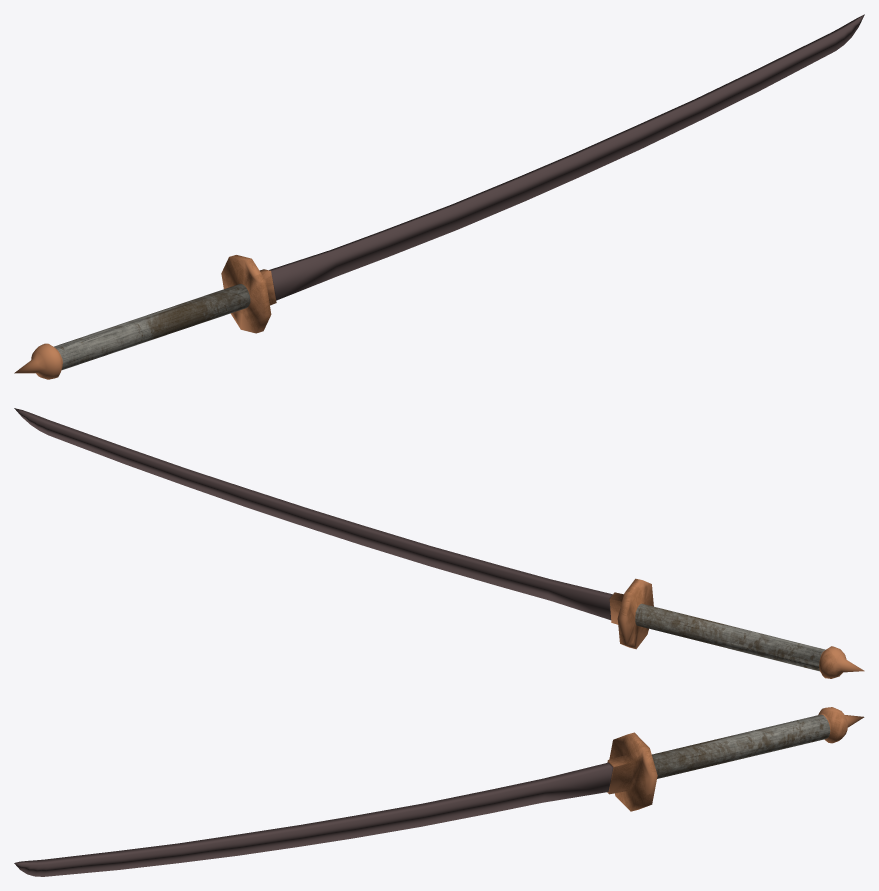
File: Anim_idle_katana_objetos.0019.obj
The picture shows the model from 3 angles, top to bottom: view 1: azimuth 90°, elevation 25°; view 2: azimuth 210°, elevation 25°; view 3: azimuth 270°, elevation 25°; orthographic projection. The views are drawn at different scales.
Visible parts, largest first — view 1: Katana1; view 2: Katana1; view 3: Katana1.
Part boxes in pixels (x1=…): Katana1: x1=14, y1=14, x2=864, y2=379; Katana1: x1=14, y1=408, x2=864, y2=678; Katana1: x1=14, y1=707, x2=864, y2=876.
Size of the model in its own units: 3.06 by 0.7409 by 4.36.
